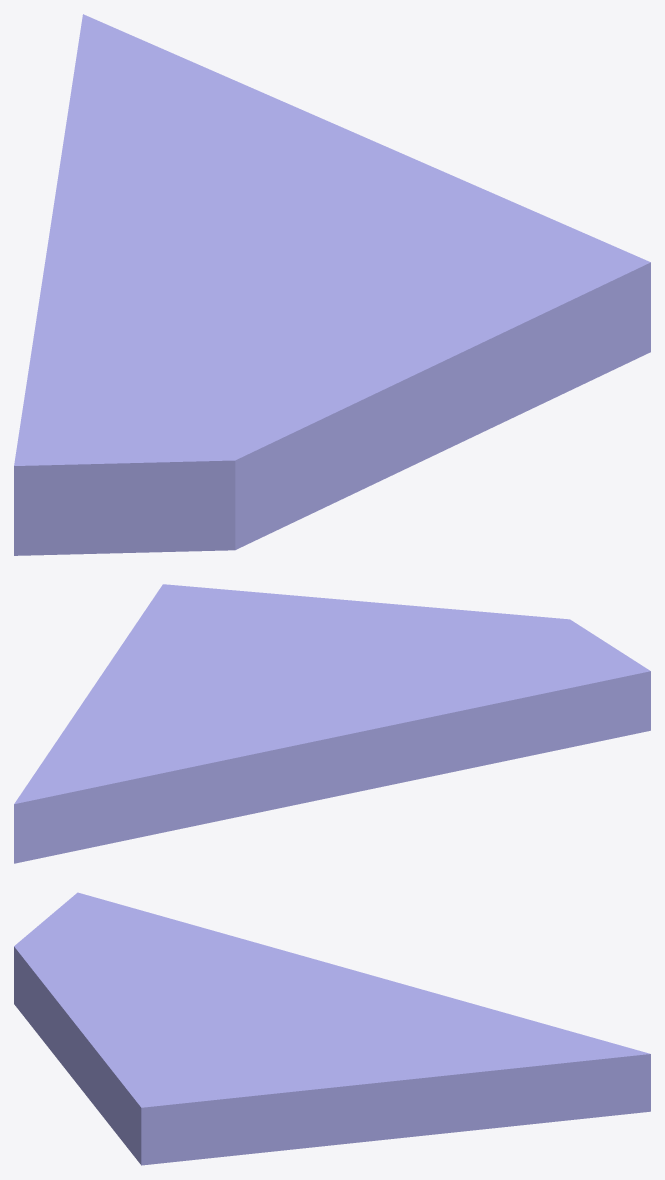
The model's file is Elements_Mass.glb.
3 renders of one model, top to bottom at view 1: azimuth 30°, elevation 25°; view 2: azimuth 150°, elevation 25°; view 3: azimuth 270°, elevation 25°, orthographic. The views are drawn at different scales.
Parts seen in each view (by area): view 1: 539eca84-9cae-4001-97e6-a91758b4bed8_mesh; view 2: 539eca84-9cae-4001-97e6-a91758b4bed8_mesh; view 3: 539eca84-9cae-4001-97e6-a91758b4bed8_mesh.
Part boxes in pixels (<box>): 539eca84-9cae-4001-97e6-a91758b4bed8_mesh: <box>14,14,650,555</box>; 539eca84-9cae-4001-97e6-a91758b4bed8_mesh: <box>14,584,650,863</box>; 539eca84-9cae-4001-97e6-a91758b4bed8_mesh: <box>14,892,650,1165</box>.
Size of the model in its own units: 40 by 5 by 50.
